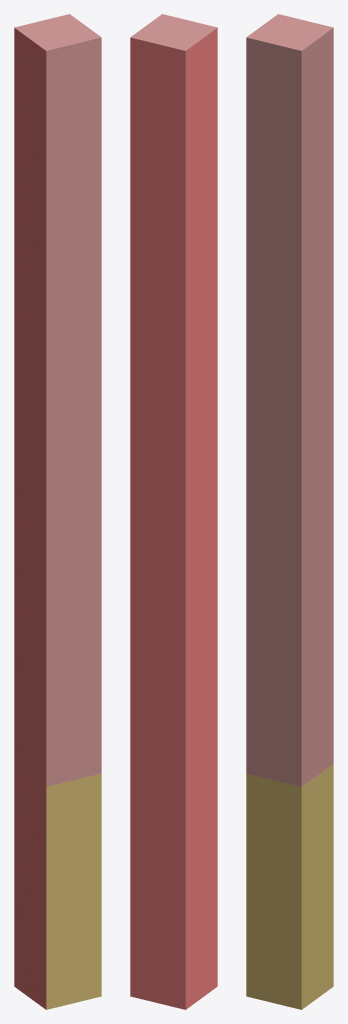
The model's file is column4.fbx.
3 views of the same model, side by side, from view 1: azimuth 30°, elevation 25°; view 2: azimuth 150°, elevation 25°; view 3: azimuth 330°, elevation 25° (orthographic).
Visible parts, largest first — view 1: column4; view 2: column4; view 3: column4.
Part boxes in pixels (left/top/right/bottom): column4: left=14, top=14, right=101, bottom=1009; column4: left=130, top=14, right=217, bottom=1009; column4: left=246, top=14, right=333, bottom=1009.
Size of the model in its own units: 16.89 by 279 by 16.89.
